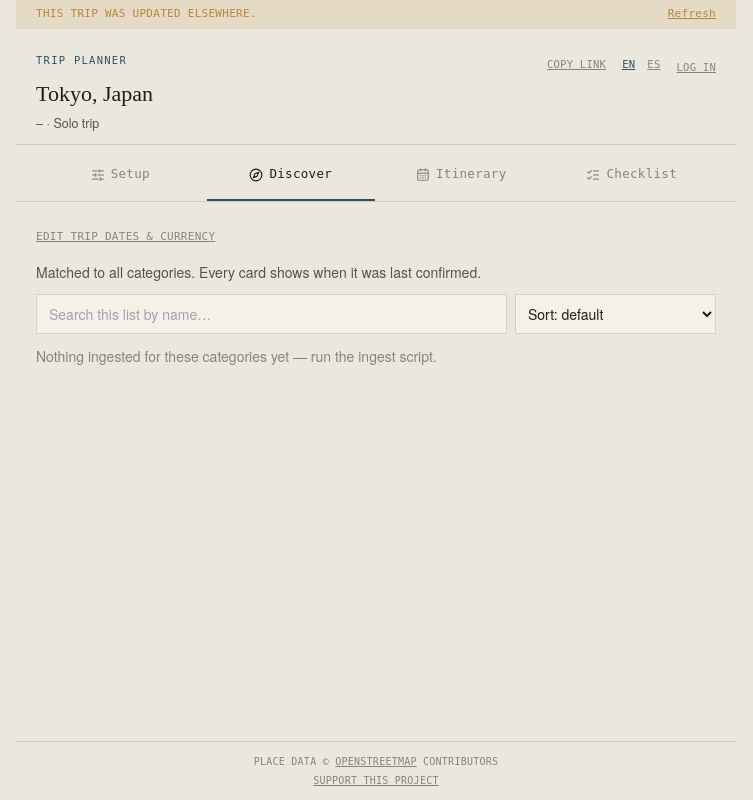
trip-changed-elsewhere banner › shows a real banner only once the trip's updatedAt actually changes since it was first loaded, and Refresh dismisses it
The image size is (753, 800).
Expected: the heading "Tokyo, Japan" is shown, [36,80,153,106]
Expected: the text "This trip was updated elsewhere." is shown, [36,6,257,22]
Click the button "Refresh" at (692, 14), box [668,6,716,22]
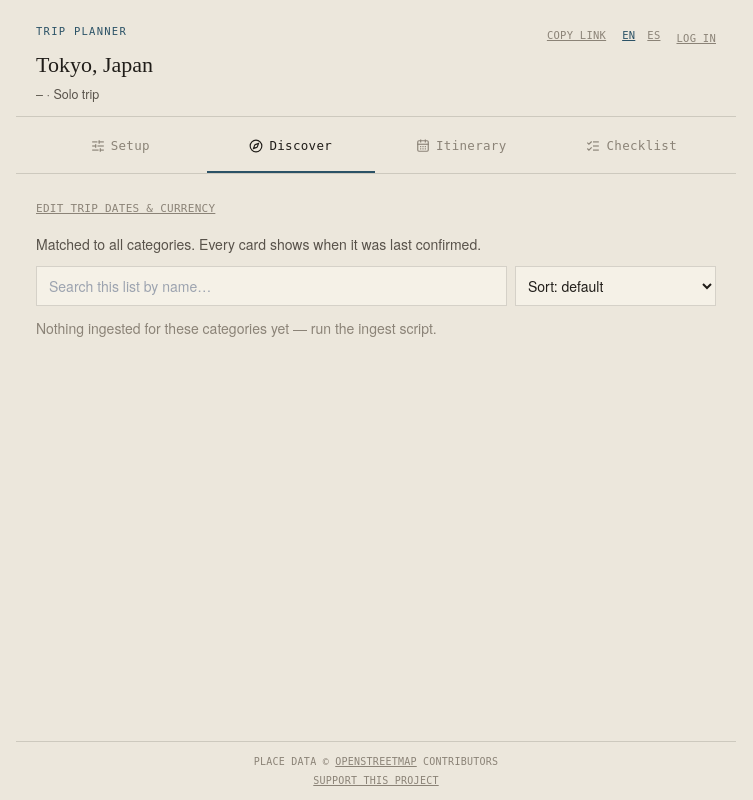
Expected: the text "updated elsewhere" is gone
